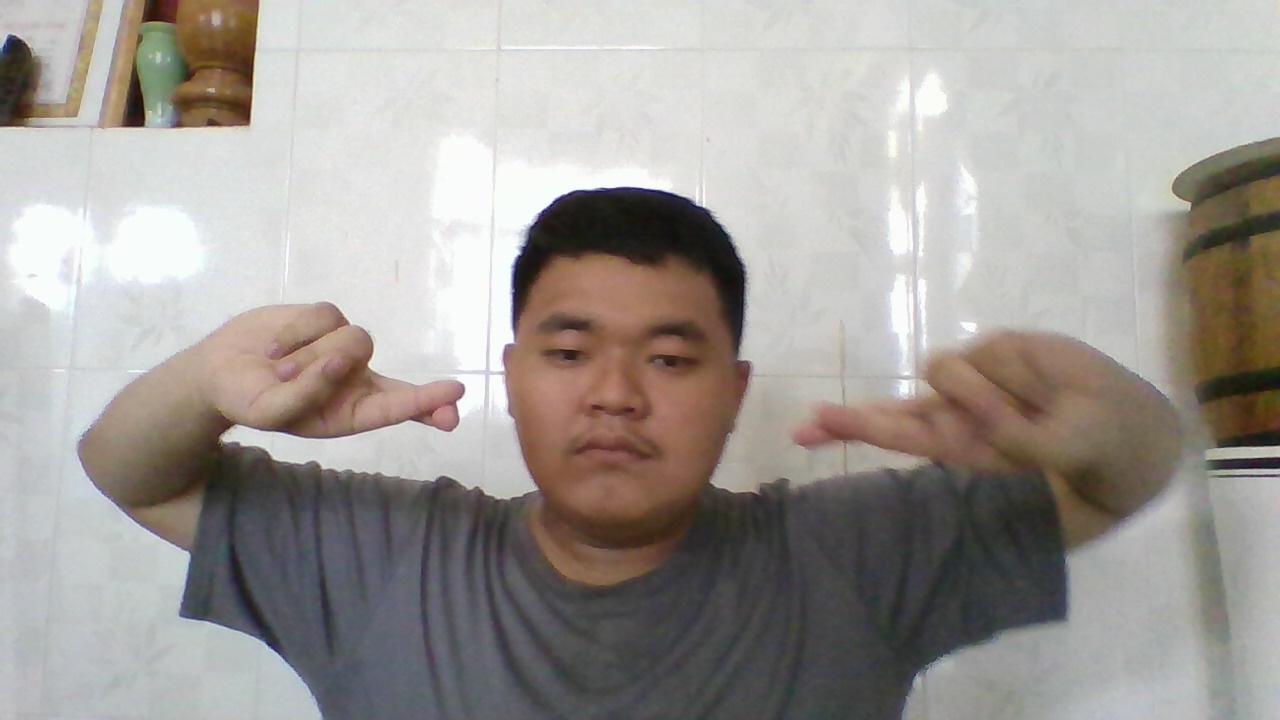R: (799, 331, 1136, 469), (195, 302, 468, 432)
